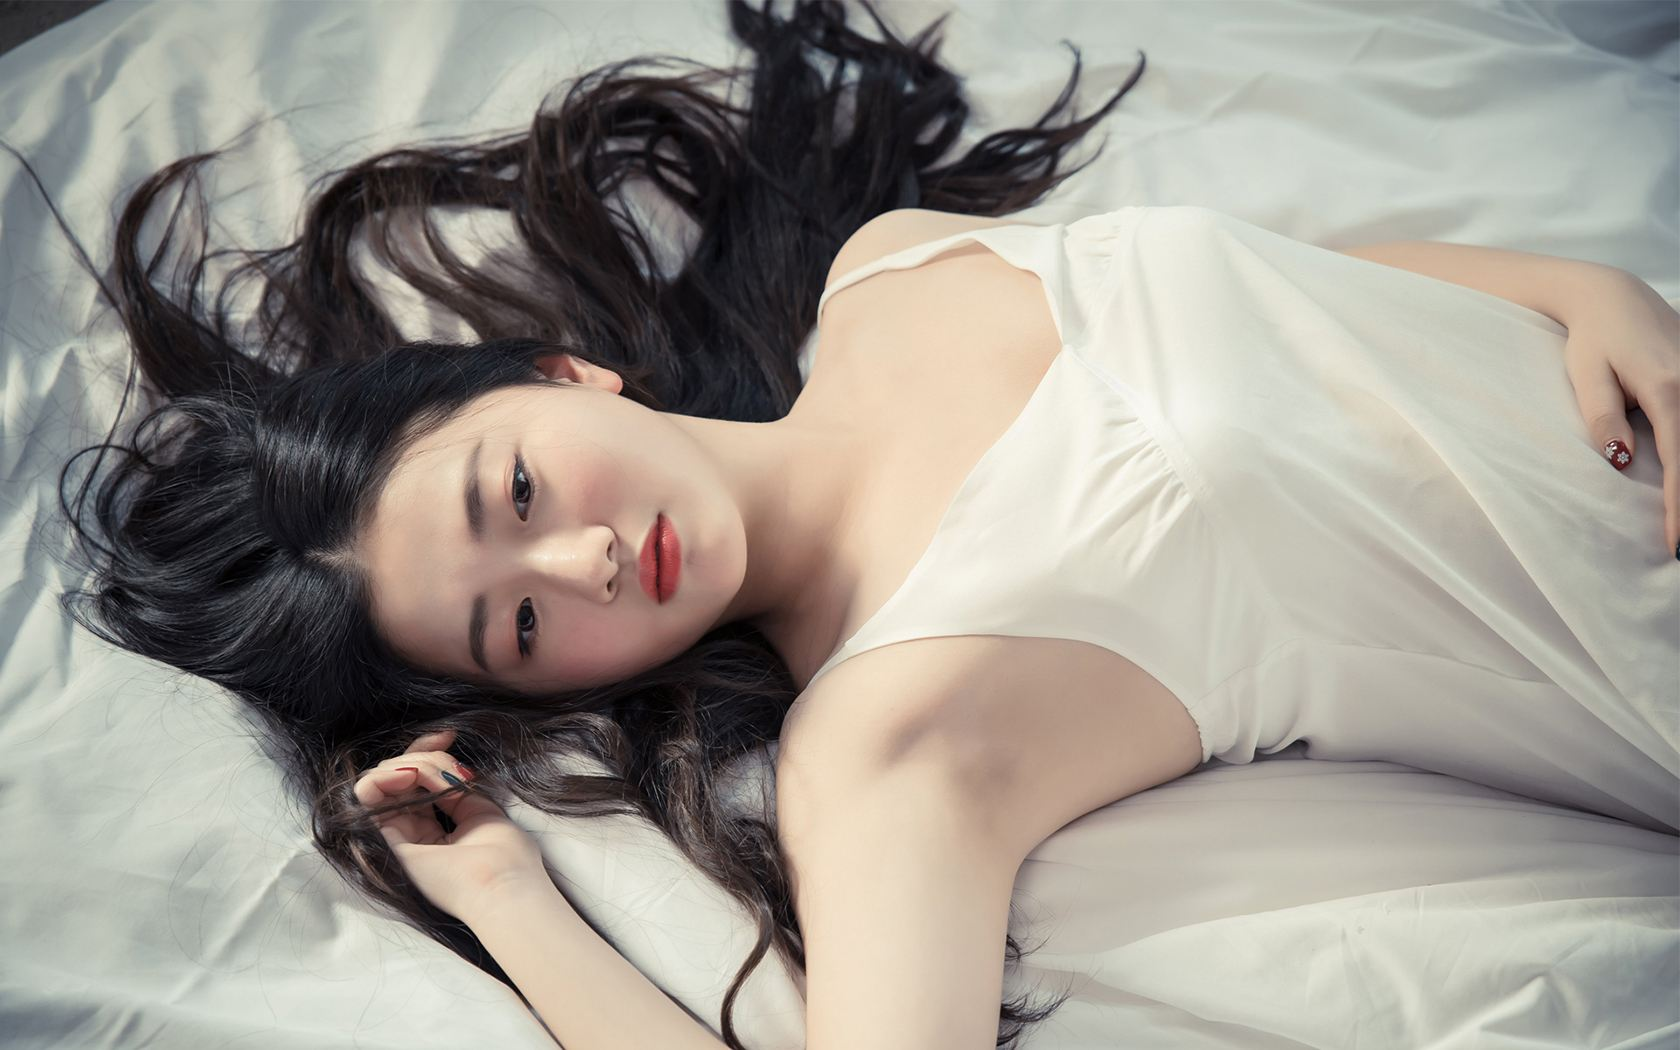person: (208, 241, 1680, 892)
